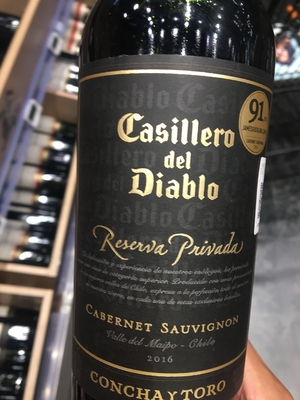casillero del diablo reserva privada cabernet sauvignon: (60, 7, 284, 400)
